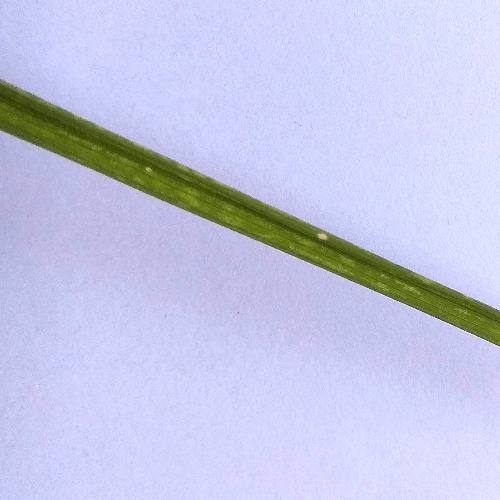Busuk Leher: (314, 221, 337, 249)
